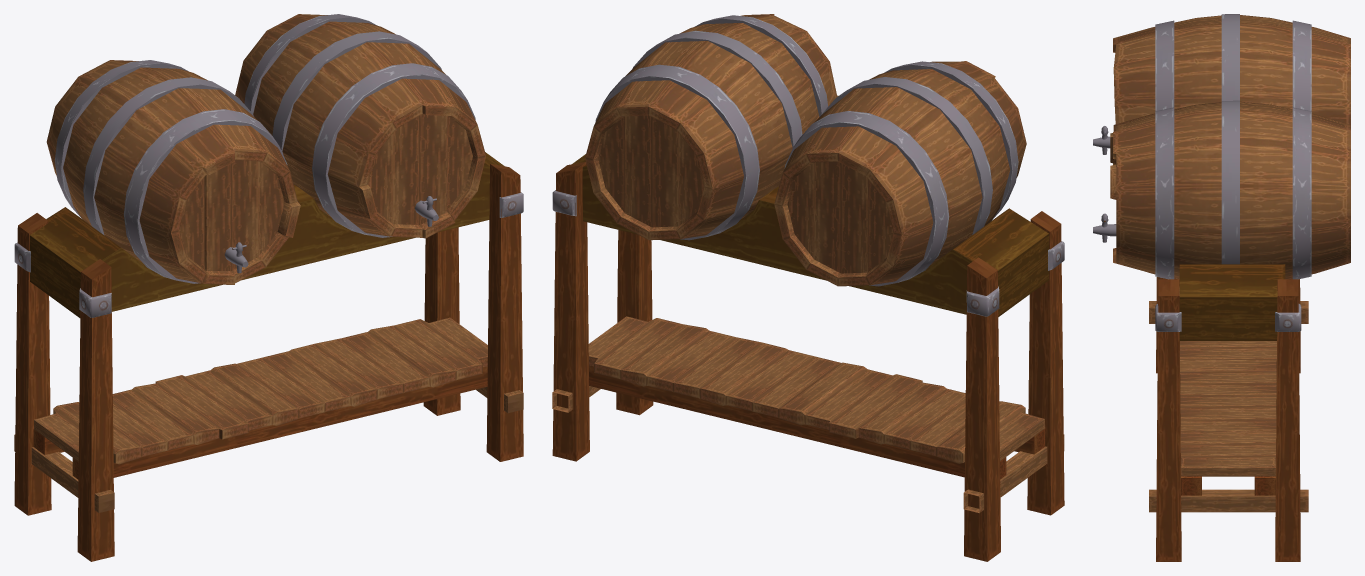
Rendered from Barrel_Holder.glb.
The picture shows the model from 3 angles, left to right: view 1: azimuth 30°, elevation 25°; view 2: azimuth 150°, elevation 25°; view 3: azimuth 270°, elevation 25°; orthographic projection. The views are drawn at different scales.
Visible parts, largest first — view 1: Barrel_Holder; view 2: Barrel_Holder; view 3: Barrel_Holder.
Part boxes in pixels (left/top/right/bottom): Barrel_Holder: left=14, top=14, right=523, bottom=561; Barrel_Holder: left=552, top=14, right=1064, bottom=561; Barrel_Holder: left=1093, top=14, right=1350, bottom=561.
Size of the model in its own units: 1.36 by 1.26 by 0.741.
Materials: 2 (2 with a texture image).
